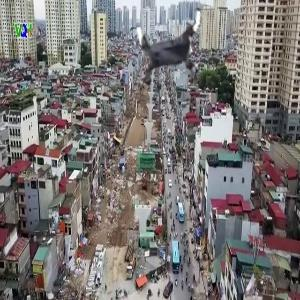drone: (128, 6, 215, 93)
